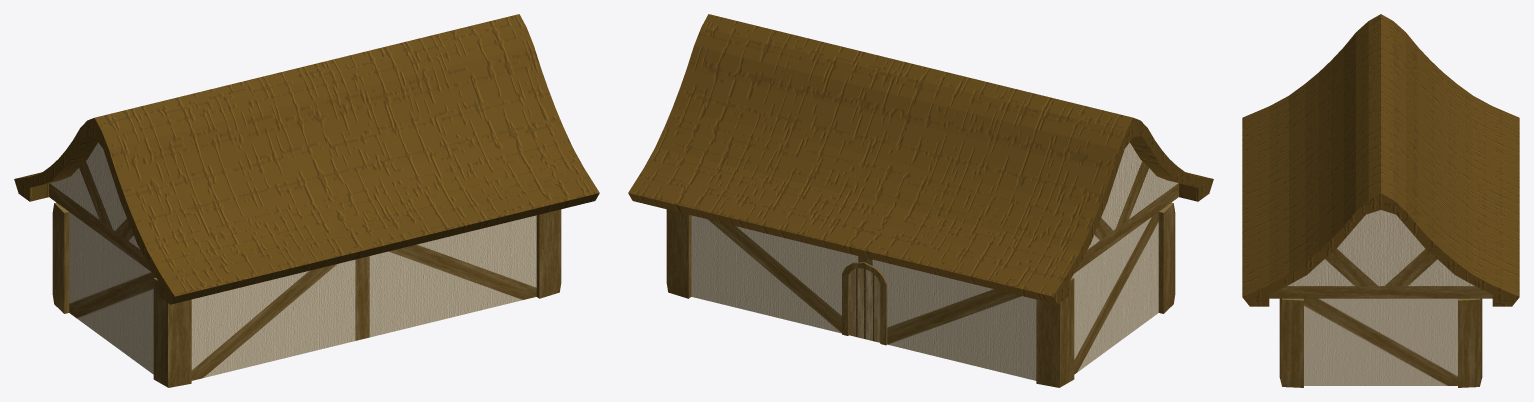
File: MediumHouse.fbx
The picture shows the model from 3 angles, left to right: view 1: azimuth 30°, elevation 25°; view 2: azimuth 150°, elevation 25°; view 3: azimuth 270°, elevation 25°; orthographic projection. The views are drawn at different scales.
Visible parts, largest first — view 1: pCube2, pCube1; view 2: pCube2, pCube1; view 3: pCube2, pCube1.
Part boxes in pixels (x1=…): pCube2: x1=14, y1=14, x2=599, y2=304; pCube1: x1=52, y1=202, x2=561, y2=387; pCube2: x1=628, y1=14, x2=1213, y2=304; pCube1: x1=666, y1=202, x2=1175, y2=387; pCube2: x1=1242, y1=14, x2=1519, y2=306; pCube1: x1=1279, y1=298, x2=1482, y2=387.
Bounding box in the file's own units: 22 × 11.5 × 14.41.
2 materials, 2 textured.
